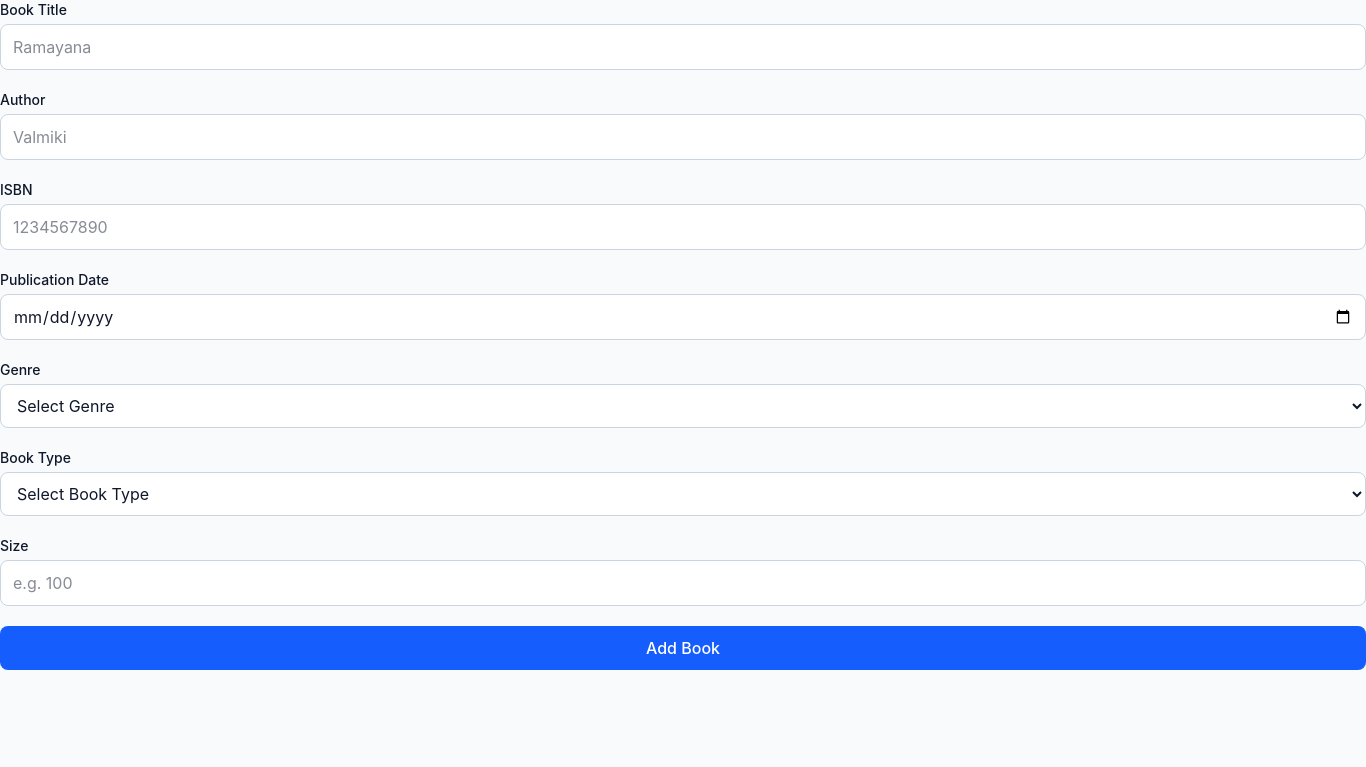
Scenario: BookForm › shows an error when ISBN is not 10 digits
Type "12345" into the field labelled "ISBN" at (683, 227), box [0,204,1365,250]
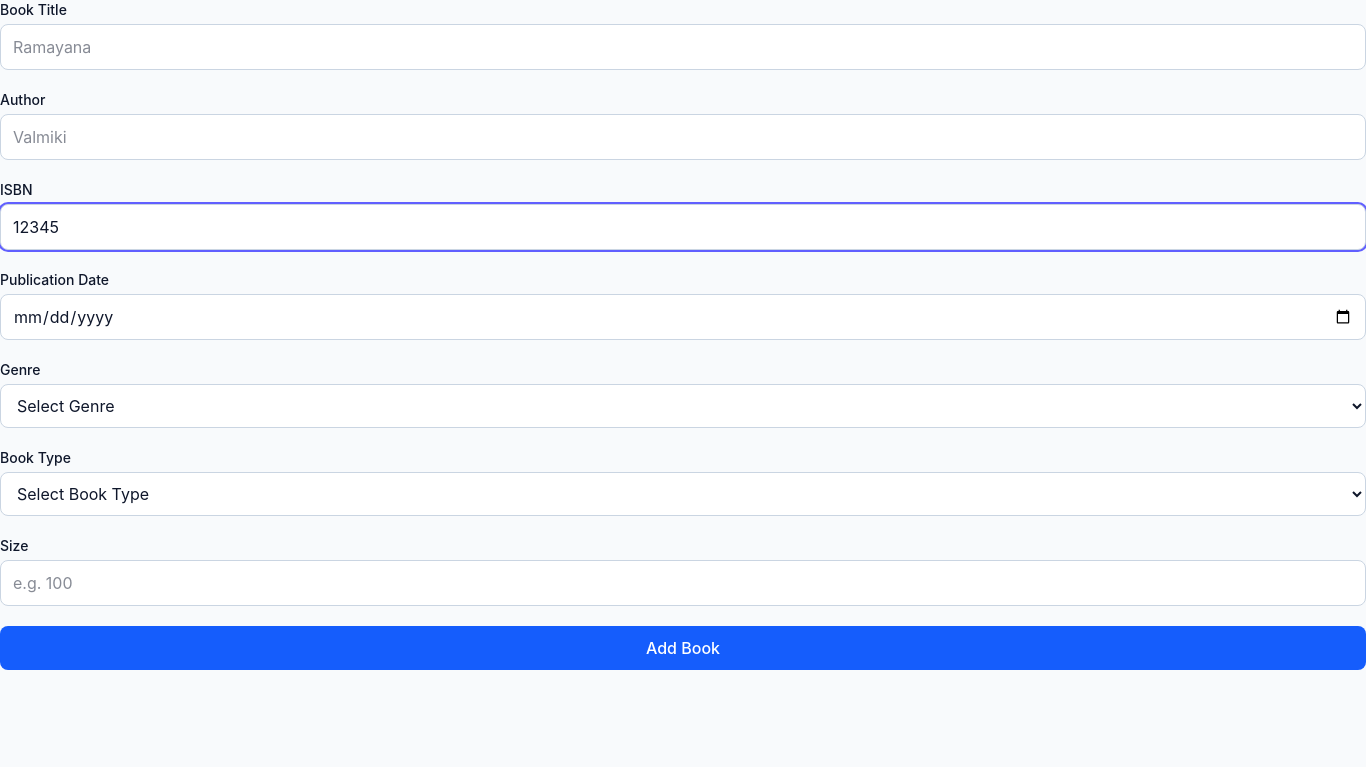
Click the button "Add Book" at (683, 648), box [0,626,1365,670]
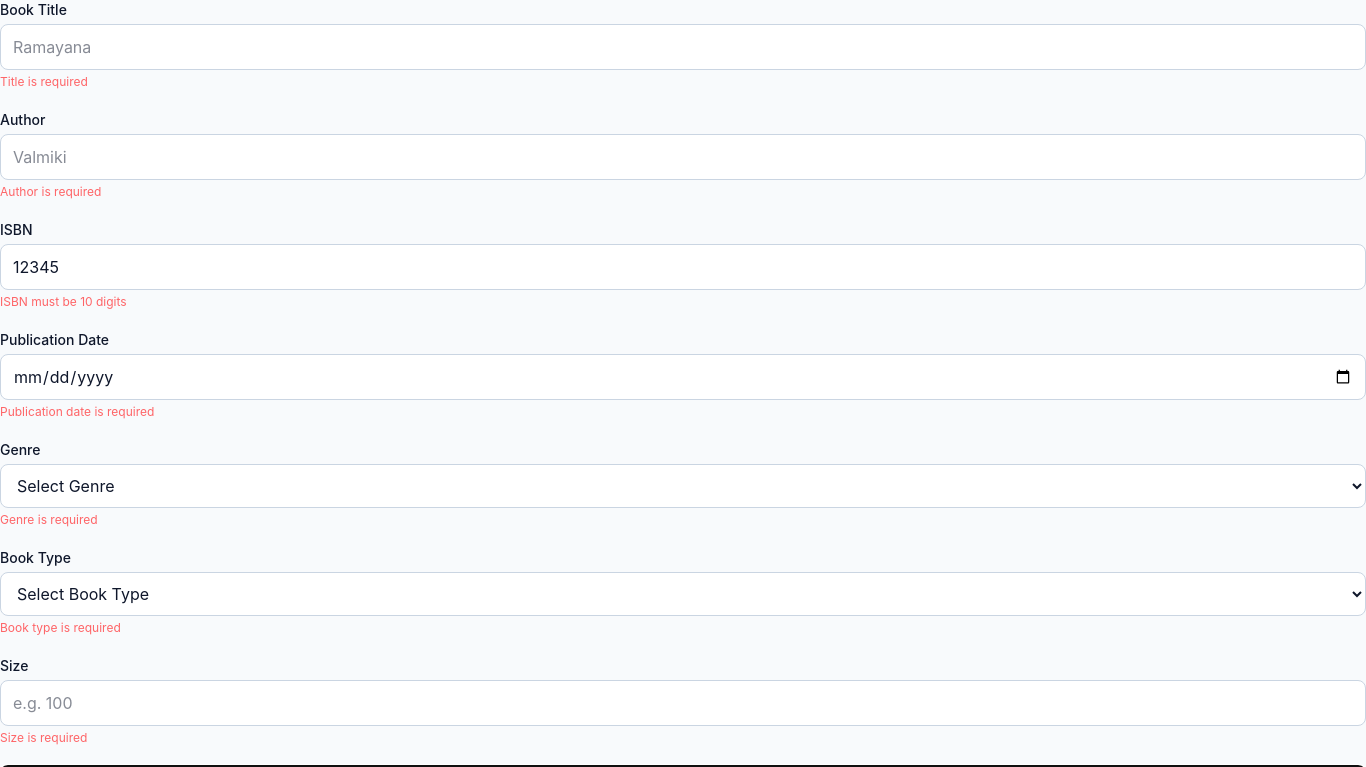
Check: the text "ISBN must be 10 digits" is shown, box [0,294,127,309]
